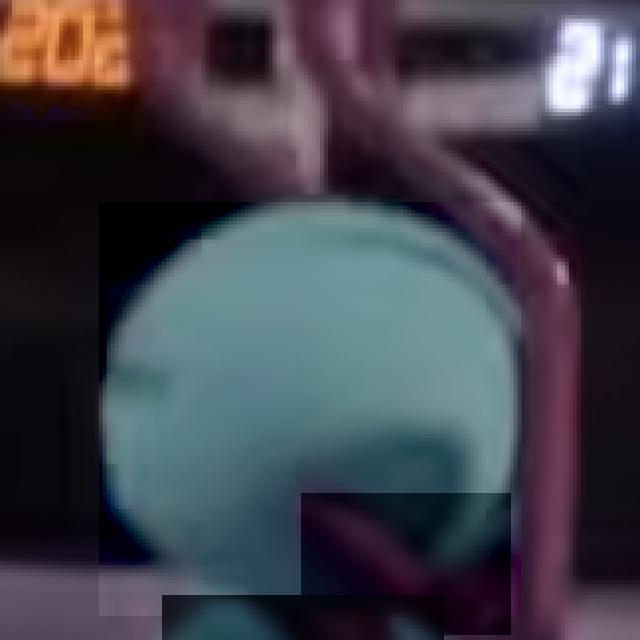Algae: (99, 202, 521, 616), (162, 595, 444, 640)
Reef: (301, 493, 511, 635)
